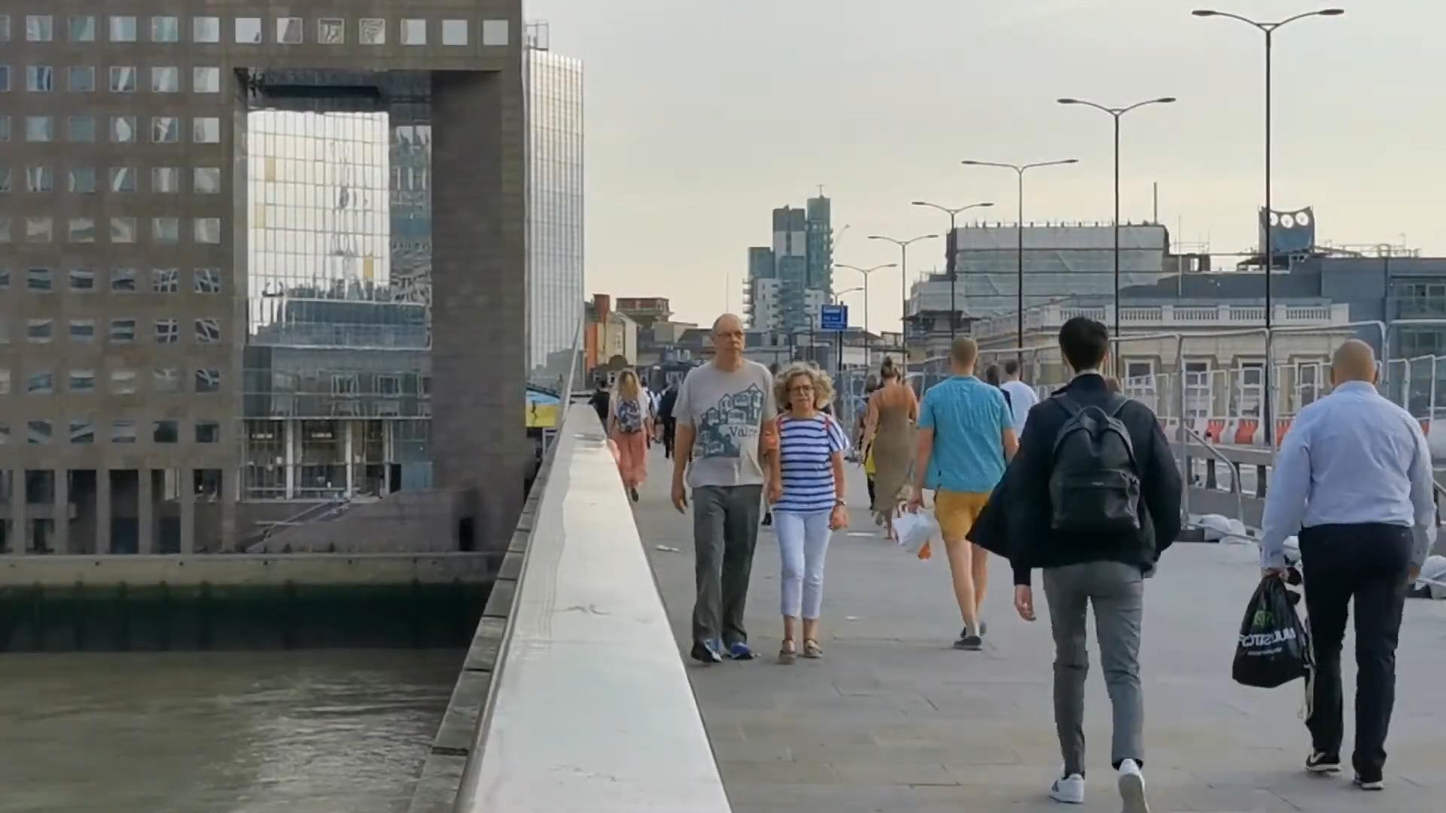no-helmet: (774, 361, 839, 414), (1059, 316, 1107, 378), (1330, 339, 1380, 388), (710, 314, 745, 361), (947, 336, 979, 375), (616, 368, 642, 396), (881, 354, 898, 387)
